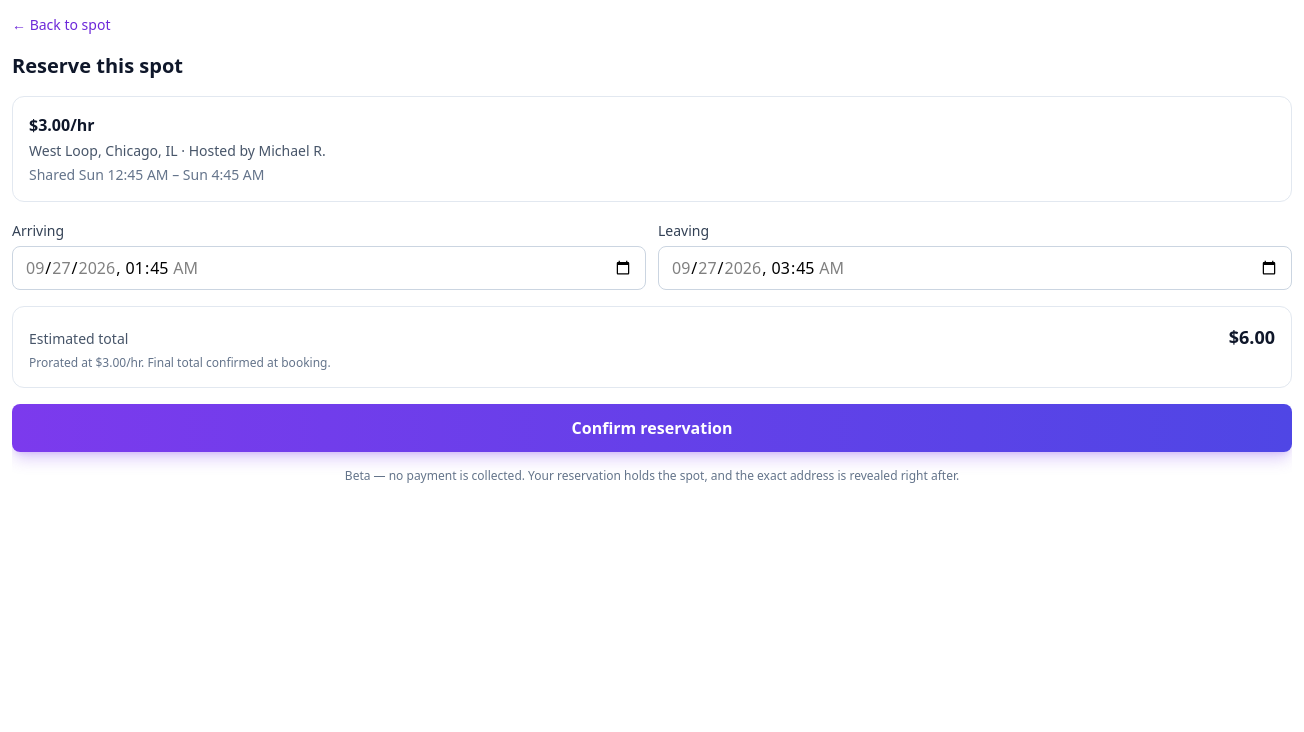
Test case: Reserve › shows a friendly message when someone else books first
Click the button "Confirm reservation": click(652, 428) [12,404,1292,452]
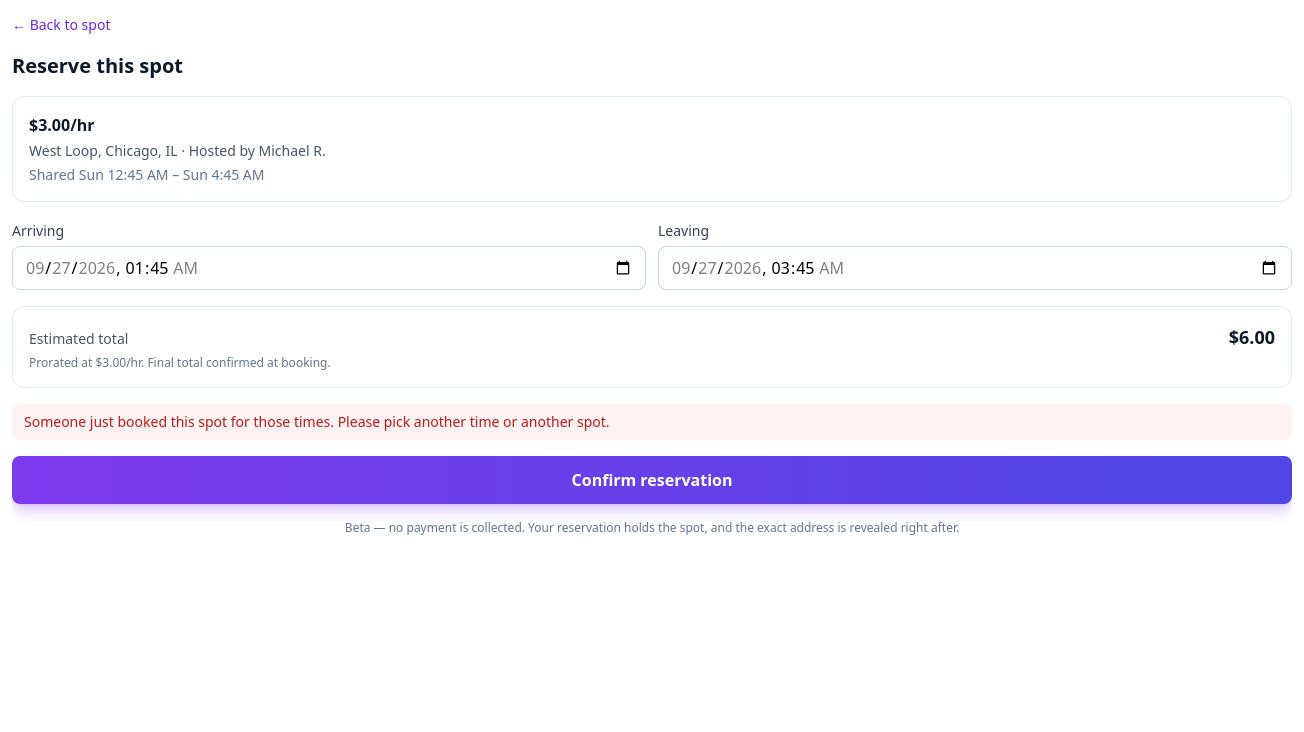
Expected: the button "Confirm reservation" is enabled, [12,456,1292,504]
Expected: the message shows "Someone just booked this spot for those times", [24,412,610,431]
